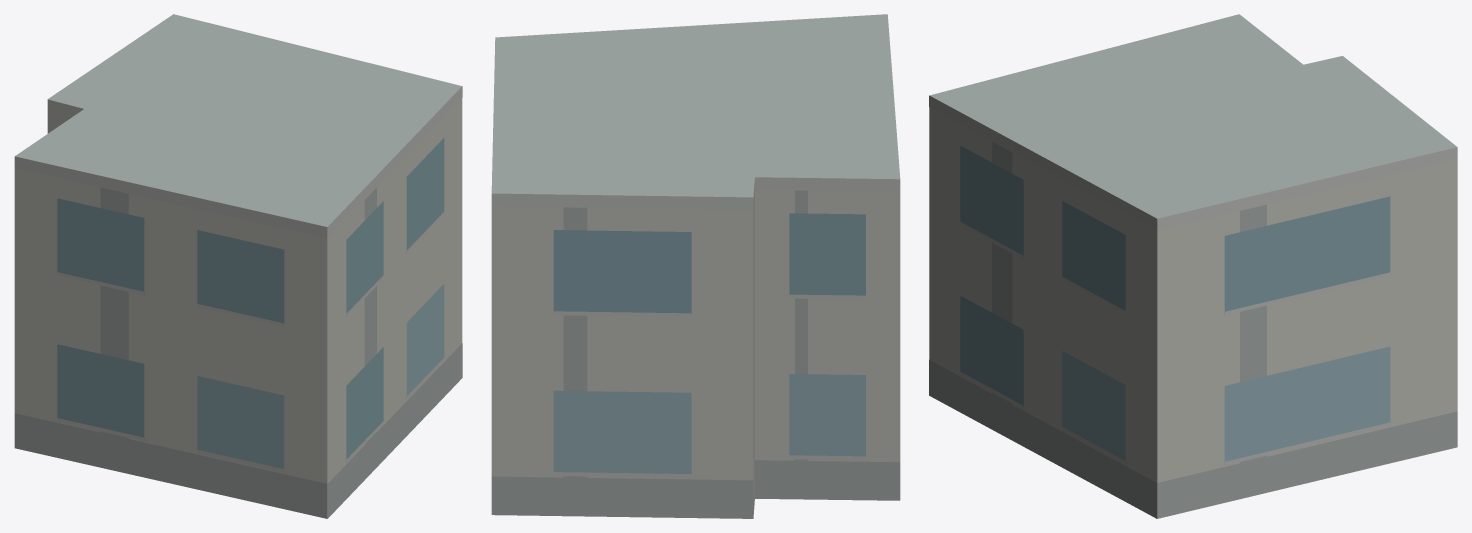
The model's file is residential-690d2fee-2f66-4287-bbe1-cba9d5848b02.glb.
3 renders of one model, left to right at view 1: azimuth 30°, elevation 25°; view 2: azimuth 150°, elevation 25°; view 3: azimuth 270°, elevation 25°, orthographic. The views are drawn at different scales.
Parts seen in each view (by area): view 1: residential-690d2fee-2f66-4287-bbe1-cba9d5848b02.tmp; view 2: residential-690d2fee-2f66-4287-bbe1-cba9d5848b02.tmp; view 3: residential-690d2fee-2f66-4287-bbe1-cba9d5848b02.tmp.
Part boxes in pixels (<box>): residential-690d2fee-2f66-4287-bbe1-cba9d5848b02.tmp: <box>14,14,462,518</box>; residential-690d2fee-2f66-4287-bbe1-cba9d5848b02.tmp: <box>491,14,900,518</box>; residential-690d2fee-2f66-4287-bbe1-cba9d5848b02.tmp: <box>929,14,1457,518</box>.
Size of the model in its own units: 8.93 by 6.1 by 9.74.
